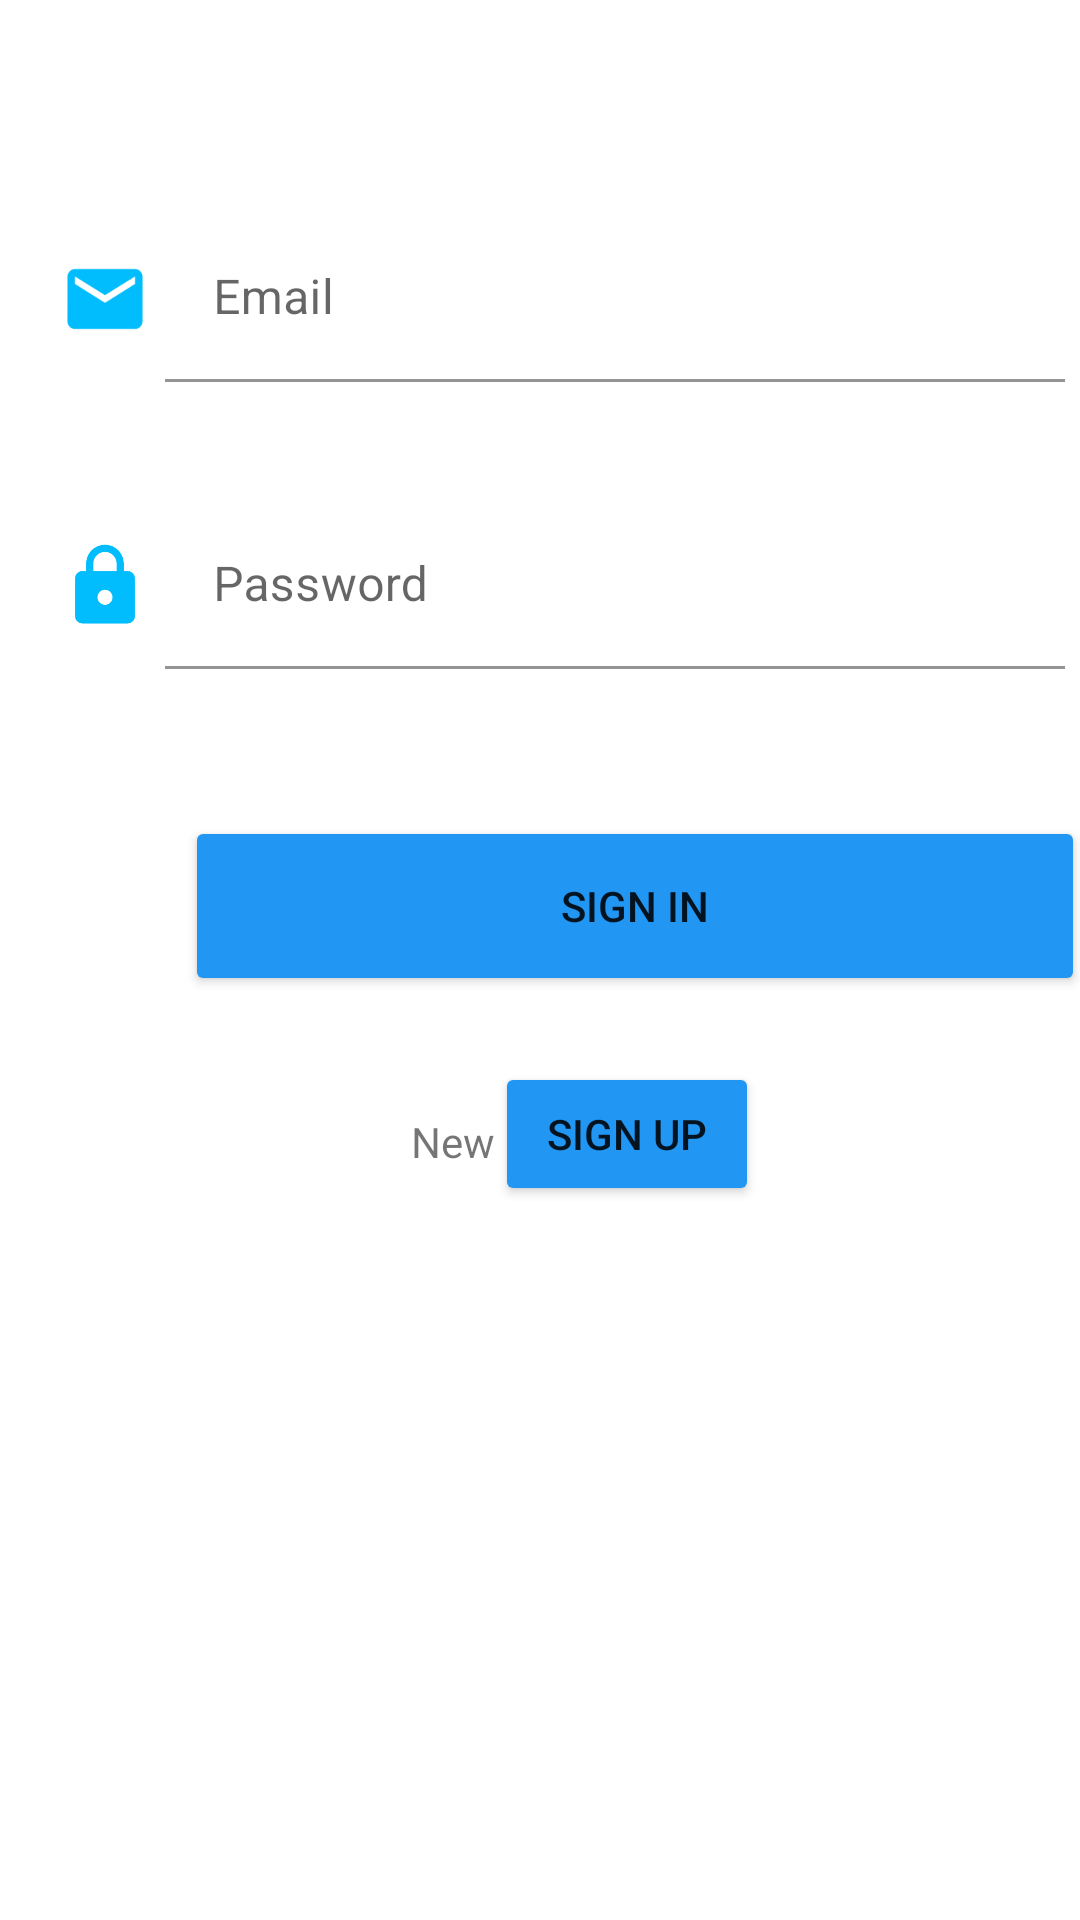

Named icons in this screenshot (1080 × 1920) and their centers, point (x, y):
lock: point (105, 584)
